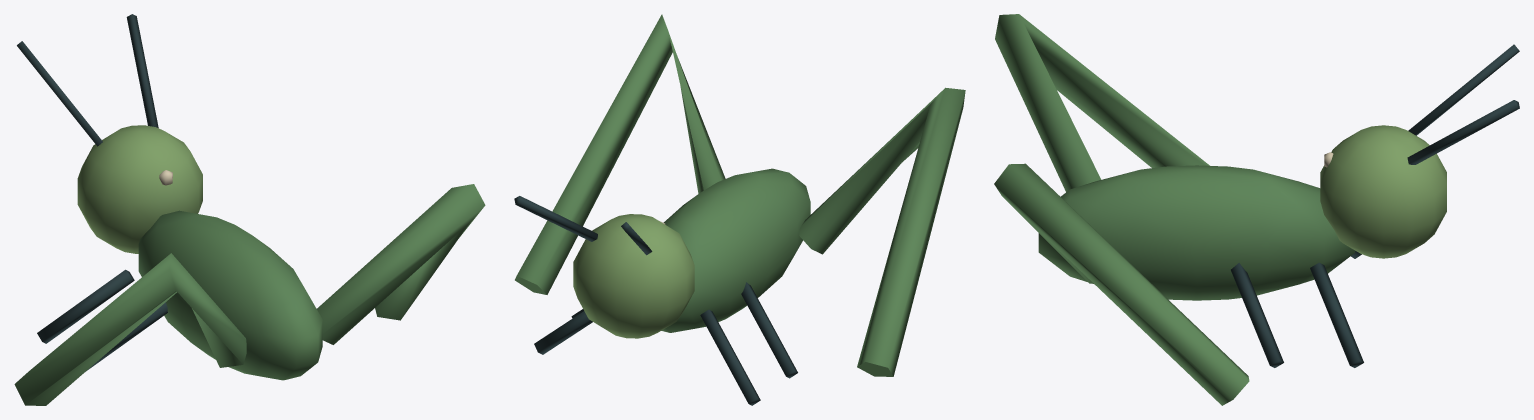
The model's file is insect_grasshopper.glb.
3 renders of one model, left to right at view 1: azimuth 30°, elevation 25°; view 2: azimuth 150°, elevation 25°; view 3: azimuth 270°, elevation 25°, orthographic. The views are drawn at different scales.
Bounding box in the file's own units: 0.1748 × 0.1002 × 0.1973.
